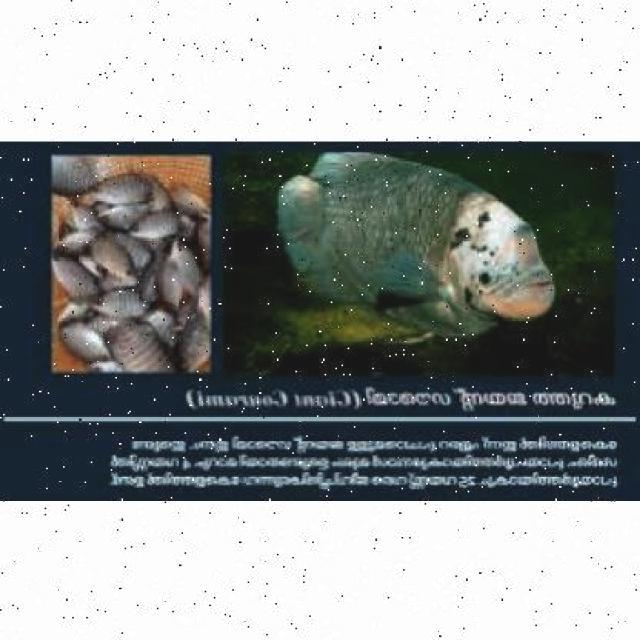gurame: (269, 154, 562, 340)
